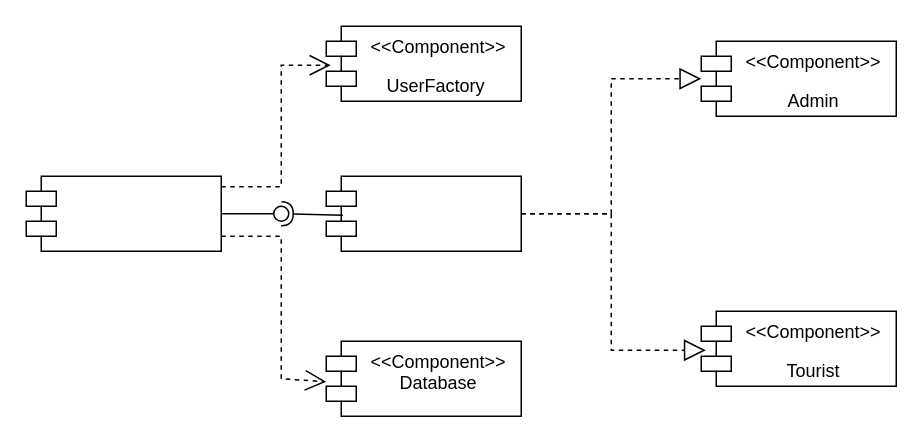
Some shapes in this 923 by 443 pixel diagram are drawn without their labels. The shapes that lost their labels are listed below. From the top down, each one's centre as x and y in pixels, then its label:
pixel 123 213: <<Component>> AuthenticationManager
pixel 423 213: User Interface
